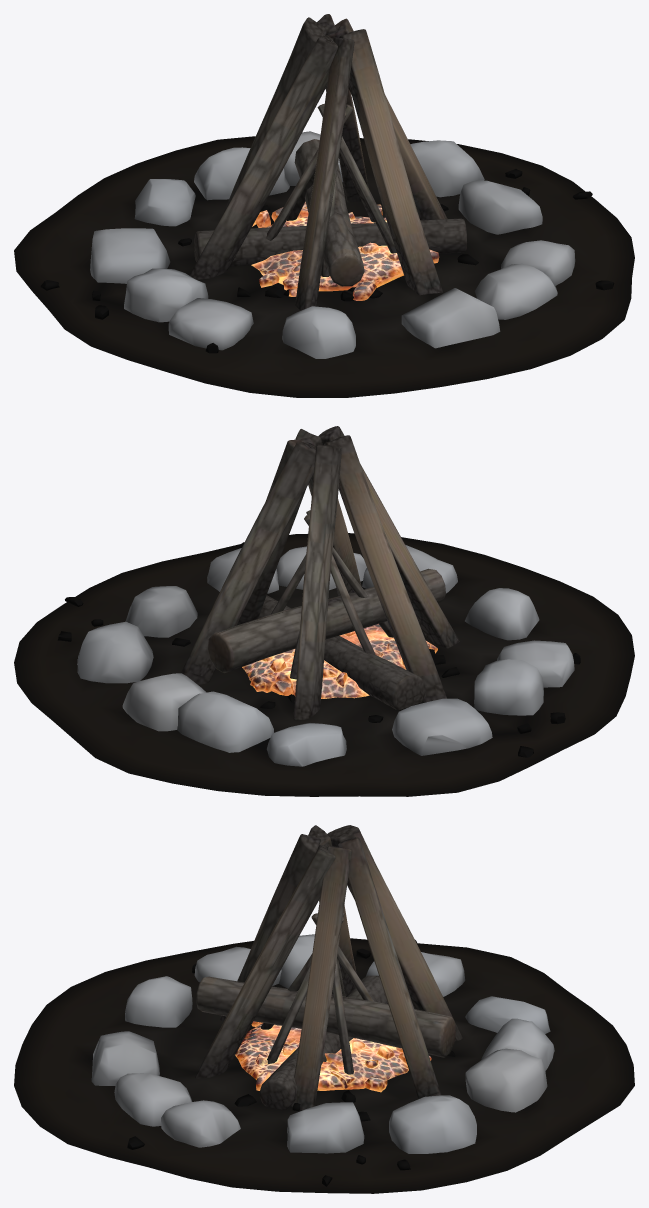
The model's file is campfire.glb.
3 views of the same model, one above another, from view 1: azimuth 30°, elevation 25°; view 2: azimuth 150°, elevation 25°; view 3: azimuth 270°, elevation 25° (orthographic).
Visible parts, largest first — view 1: ash, wood, stone, embers; view 2: ash, wood, stone, embers; view 3: ash, wood, stone, embers.
Boxes of the visible parts, x1,y1,x2,y2 form: ash: (14, 136, 634, 397); wood: (189, 14, 467, 310); stone: (90, 131, 575, 358); embers: (251, 201, 439, 300); ash: (14, 533, 634, 796); wood: (181, 426, 459, 720); stone: (77, 545, 574, 766); embers: (242, 624, 437, 698); ash: (14, 938, 634, 1193); wood: (195, 825, 462, 1110); stone: (91, 934, 554, 1153); embers: (235, 1021, 431, 1092).
Size of the model in its own units: 1.68 by 0.7619 by 1.71.
4 materials, 2 textured.
